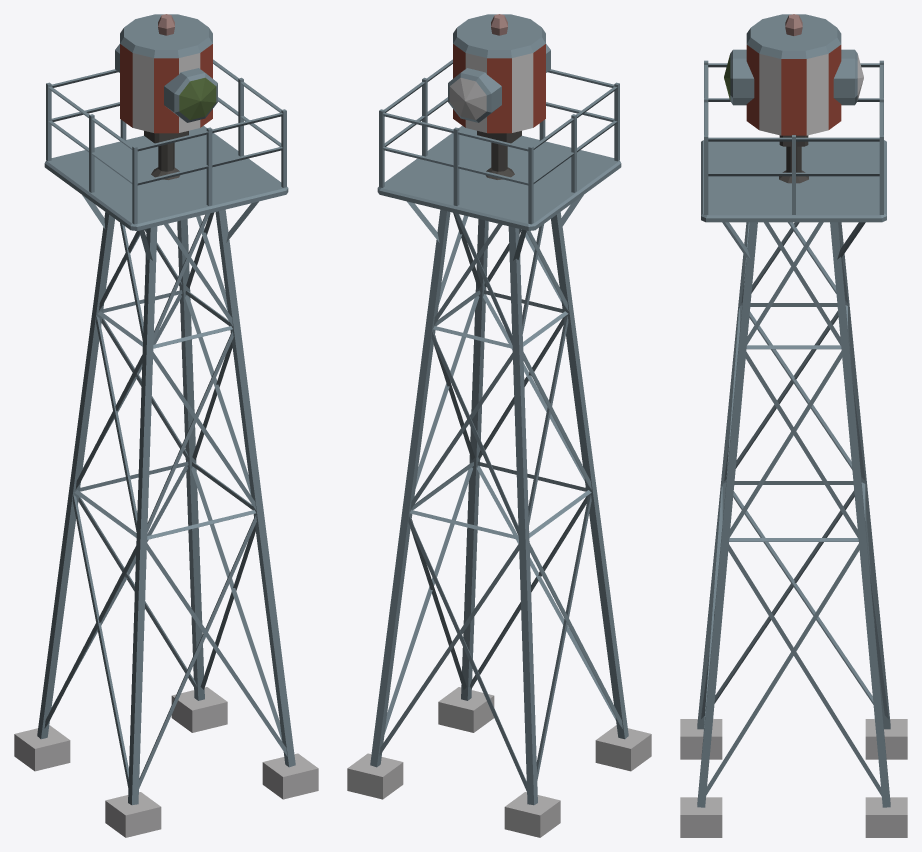
Rendered from rotating-airport-beacon-e1ea5a.glb.
3 views of the same model, side by side, from view 1: azimuth 30°, elevation 25°; view 2: azimuth 150°, elevation 25°; view 3: azimuth 270°, elevation 25° (orthographic). The views are drawn at different scales.
Visible parts, largest first — view 1: beacon-static, beacon-head-mesh; view 2: beacon-static, beacon-head-mesh; view 3: beacon-static, beacon-head-mesh.
Boxes of the visible parts, x1=… form: beacon-static: x1=14, y1=59, x2=318, y2=837; beacon-head-mesh: x1=115, y1=14, x2=217, y2=133; beacon-static: x1=347, y1=59, x2=651, y2=837; beacon-head-mesh: x1=448, y1=14, x2=550, y2=133; beacon-static: x1=680, y1=60, x2=907, y2=837; beacon-head-mesh: x1=724, y1=14, x2=863, y2=135.
Bounding box in the file's own units: 2.69 × 10.09 × 2.69.
